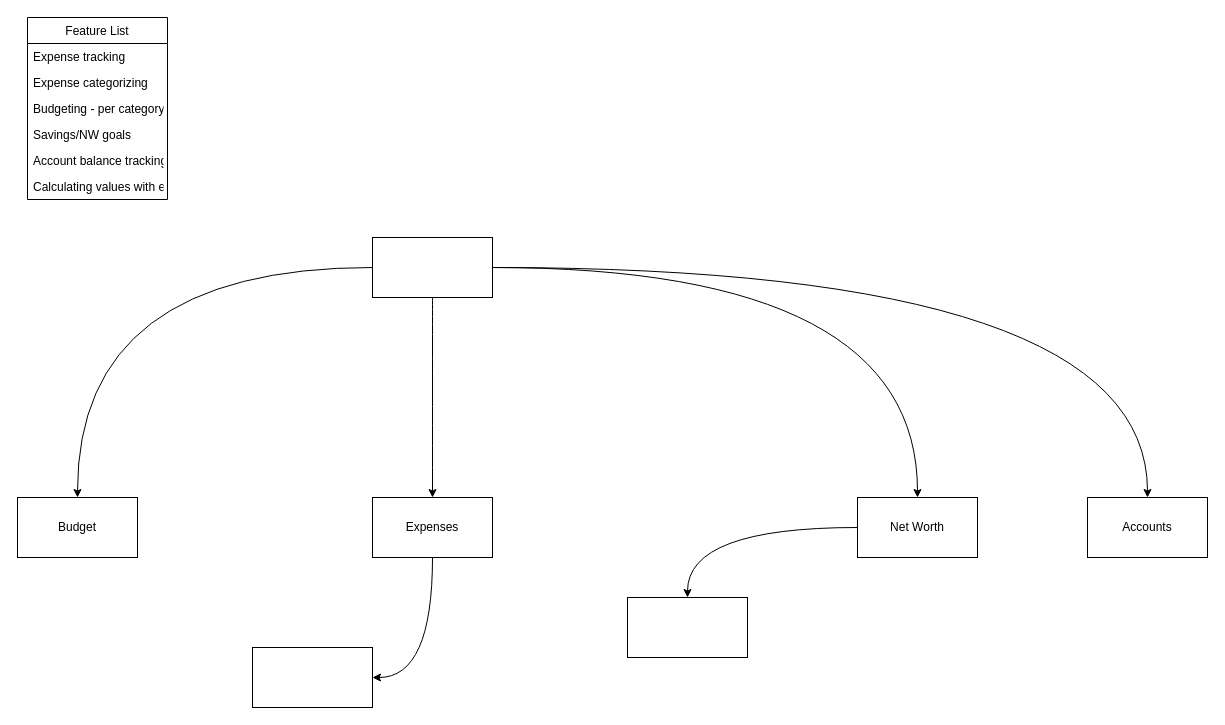
This 1225x725 diagram has some shape labels left out. Each missing label, with the centre of its shape:
"Expense" belongs at point 312,677.
"Home/Dashboard" belongs at point 432,267.
"Savings Goals/ Expected FVs" belongs at point 687,627.
